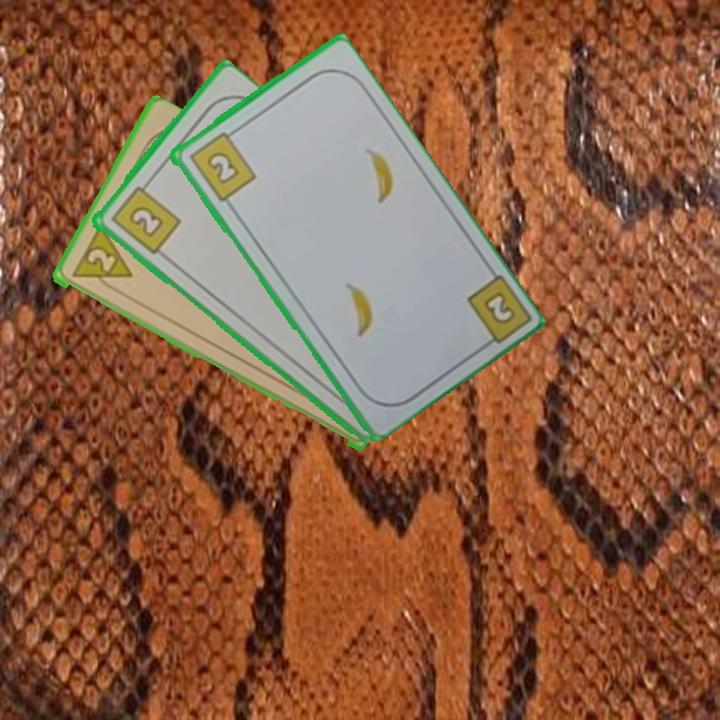2b: (107, 177, 183, 258), (185, 125, 258, 205), (479, 287, 518, 328)
2p: (67, 223, 135, 296)
